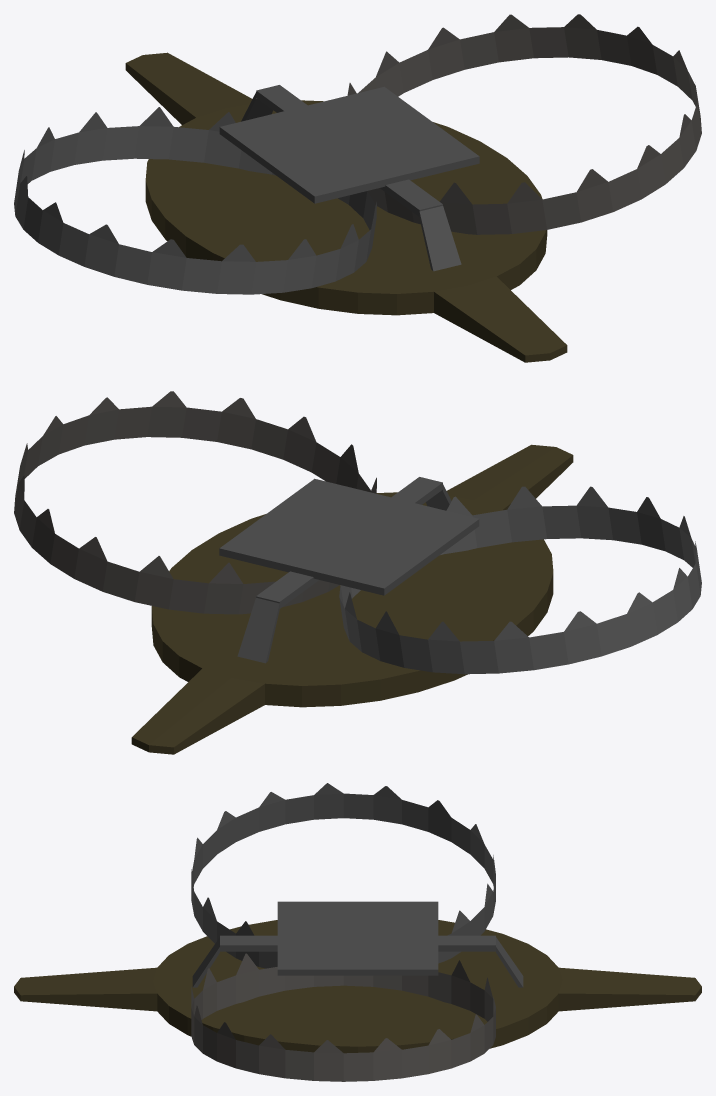
File: GADS_Trap_01_lowpoly.fbx
3 renders of one model, top to bottom at view 1: azimuth 30°, elevation 25°; view 2: azimuth 150°, elevation 25°; view 3: azimuth 270°, elevation 25°, orthographic. The views are drawn at different scales.
Parts seen in each view (by area): view 1: Cylinder; view 2: Cylinder; view 3: Cylinder.
Part boxes in pixels (x1=…): Cylinder: x1=14, y1=14, x2=701, y2=362; Cylinder: x1=14, y1=391, x2=701, y2=754; Cylinder: x1=14, y1=783, x2=701, y2=1081.
Bounding box in the file's own units: 409 × 63.9 × 451.
